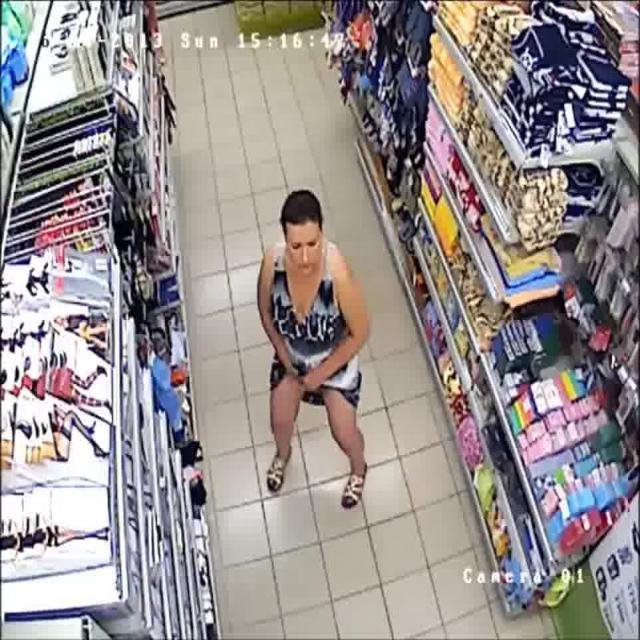Shoplifting: (257, 185, 374, 517)
